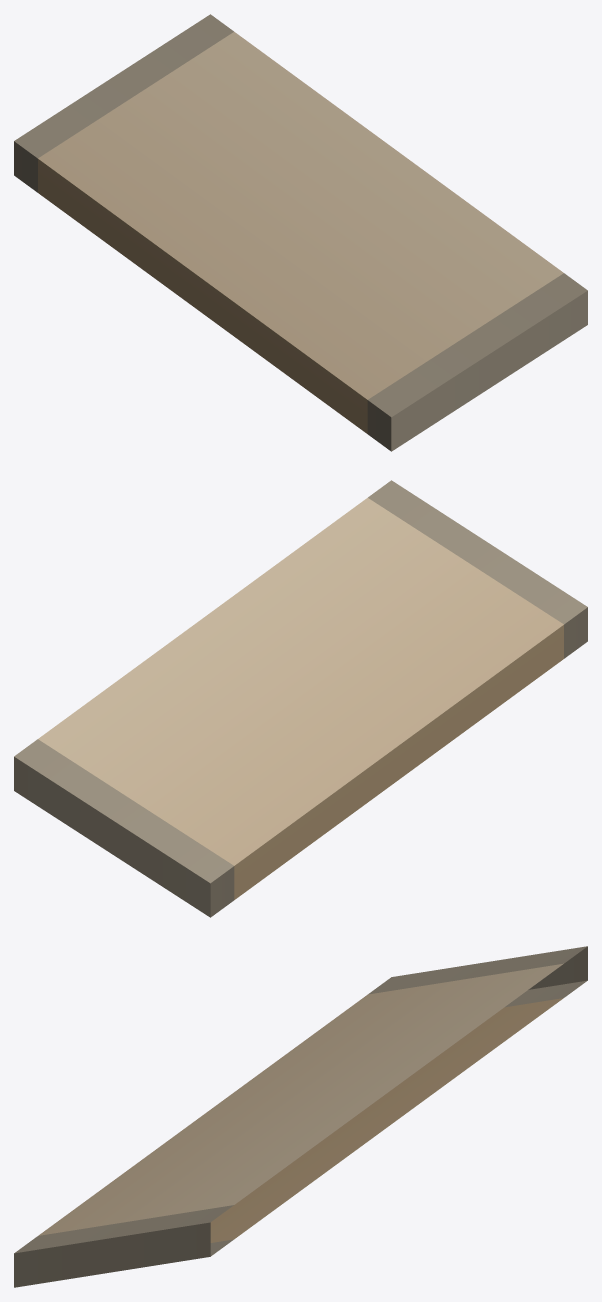
The model's file is WallStandPlatform3_Long.fbx.
3 views of the same model, one above another, from view 1: azimuth 30°, elevation 25°; view 2: azimuth 150°, elevation 25°; view 3: azimuth 330°, elevation 25° (orthographic).
Visible parts, largest first — view 1: WallStandPlatform3_Long; view 2: WallStandPlatform3_Long; view 3: WallStandPlatform3_Long.
Boxes of the visible parts, x1,y1,x2,y2 form: WallStandPlatform3_Long: (14,14,587,451); WallStandPlatform3_Long: (14,480,587,917); WallStandPlatform3_Long: (14,946,587,1287).
Size of the model in its own units: 60.87 by 33.53 by 203.
